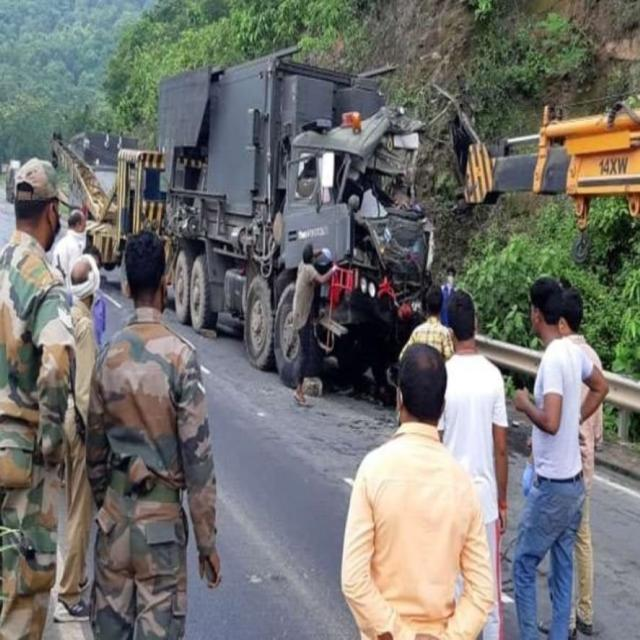accident: (159, 51, 434, 376)
